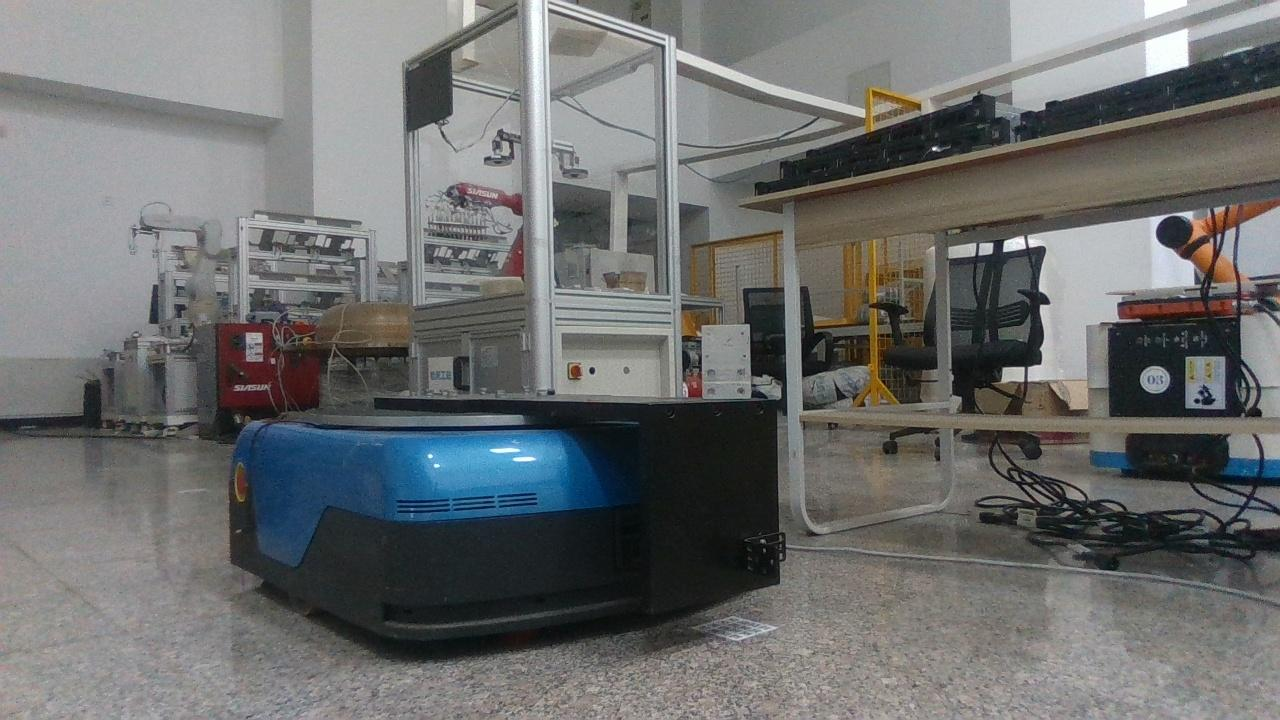AGV: (229, 397, 786, 640)
